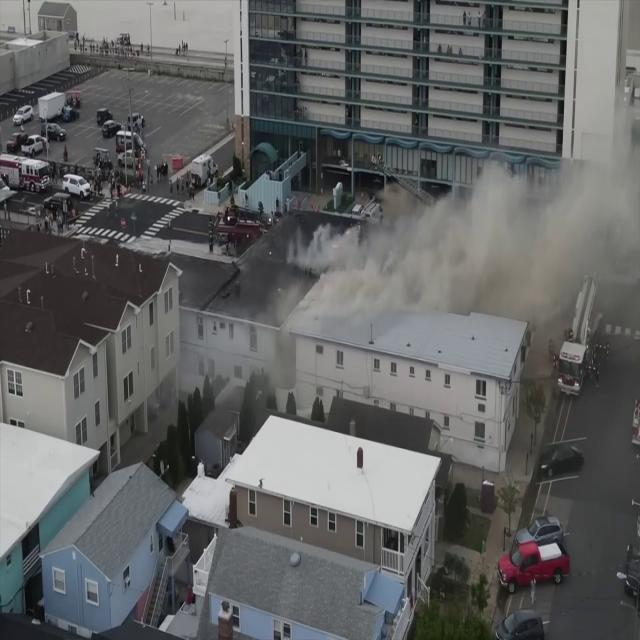Smoke: (395, 103, 640, 341)
